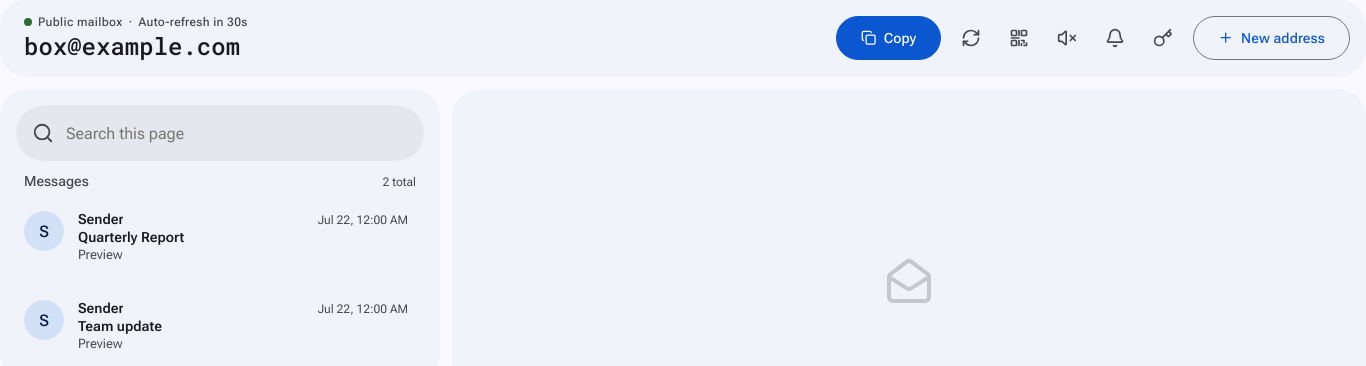
Test: InboxView polling › narrows rows by a case-insensitive subject fragment
Type "REPORT" into the search field with placeholder "Search this page" at (237, 133), box [66,124,408,142]
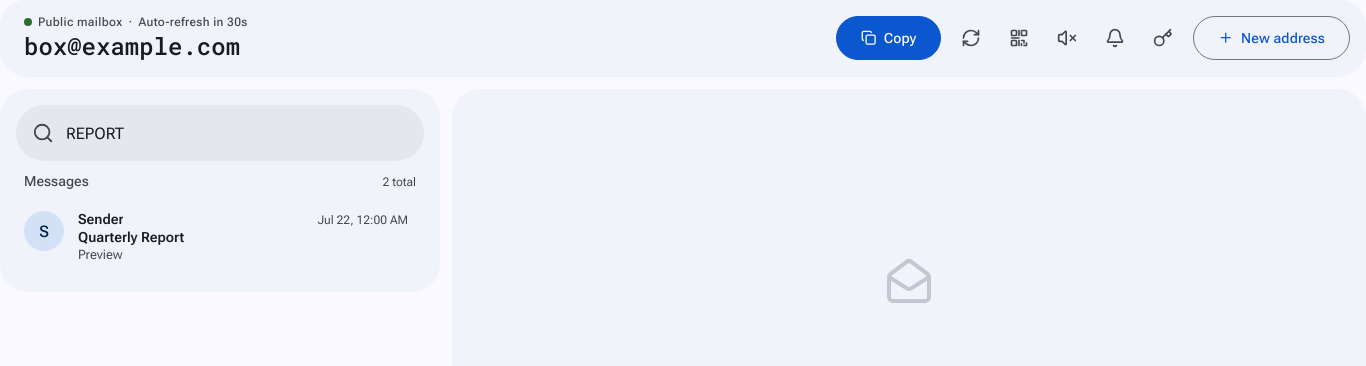
Expected: the text "Quarterly Report" is shown, [78,229,184,245]
Expected: the number of buttons with class "message-row" is 1, [8,197,420,284]
Expected: the text "Team update" is gone
